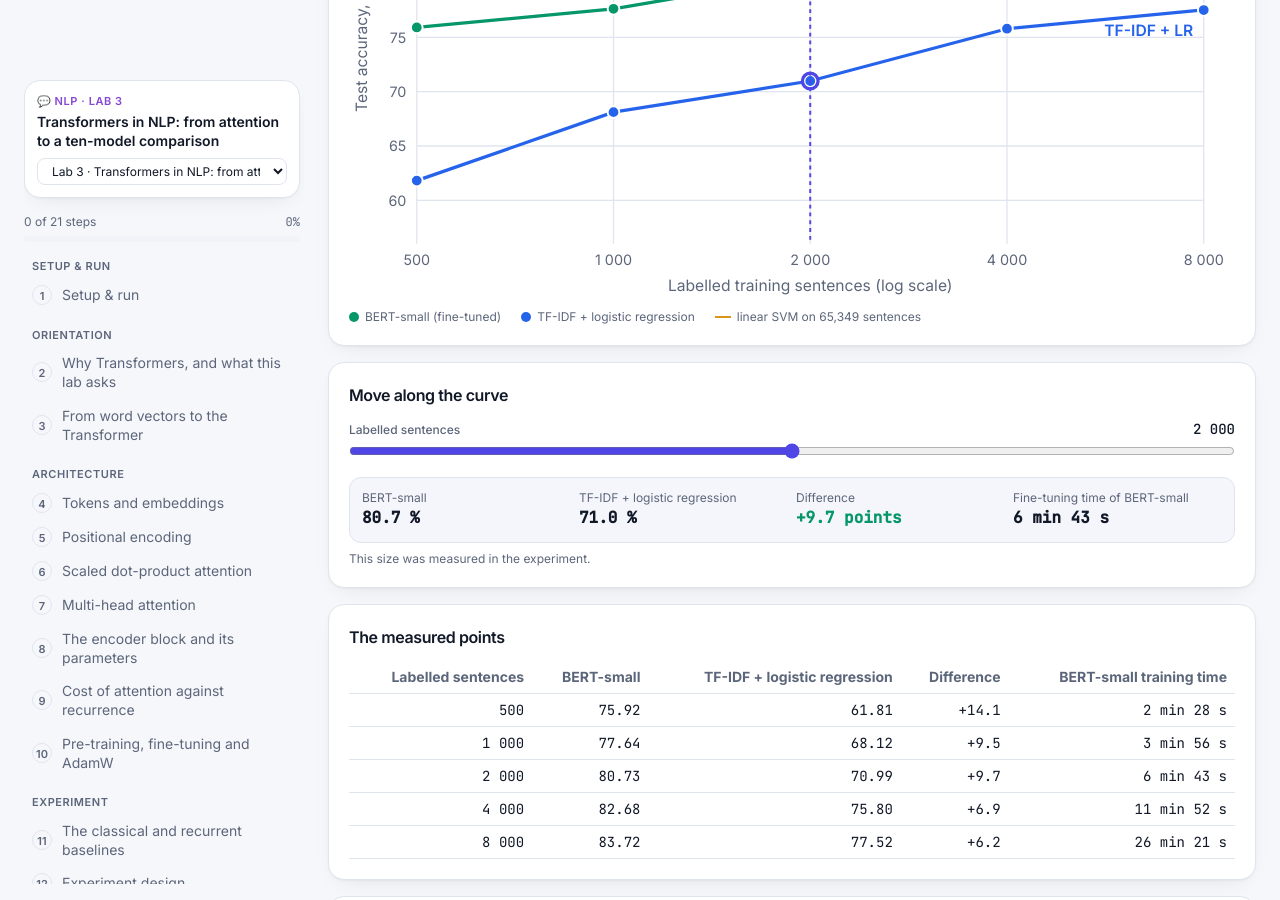
Test case: the steps respond to input › efficiency: the slider moves along the learning curve and says when a value is interpolated
(page scrolled)
Check: the text with test id "ef-basis" shows "measured in the experiment", box [349,550,590,566]
Check: the text with test id "ef-bert" reads "80.7 %", box [362,506,420,528]
Set the slider with id "ef-n" to "0". click: (357, 450)
box: [349,442,1235,458]
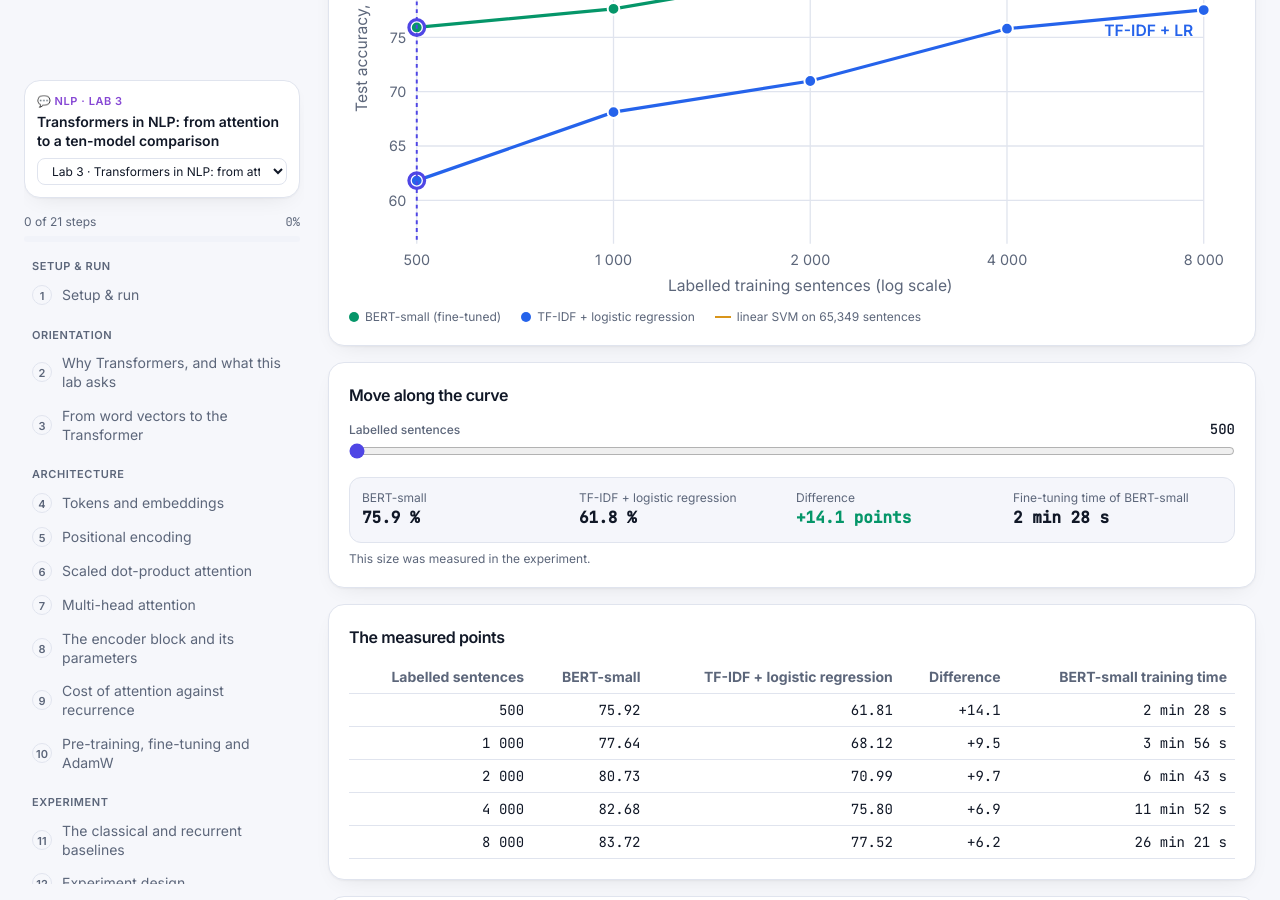
Check: the text with test id "ef-bert" reads "75.9 %", box [362,506,420,528]
Check: the text with test id "ef-lr" reads "61.8 %", box [579,506,637,528]
Check: the text with test id "ef-diff" shows "+14.1", box [796,506,911,528]
Set the slider with id "ef-n" to "30". click: (618, 450)
box: [349,442,1235,458]
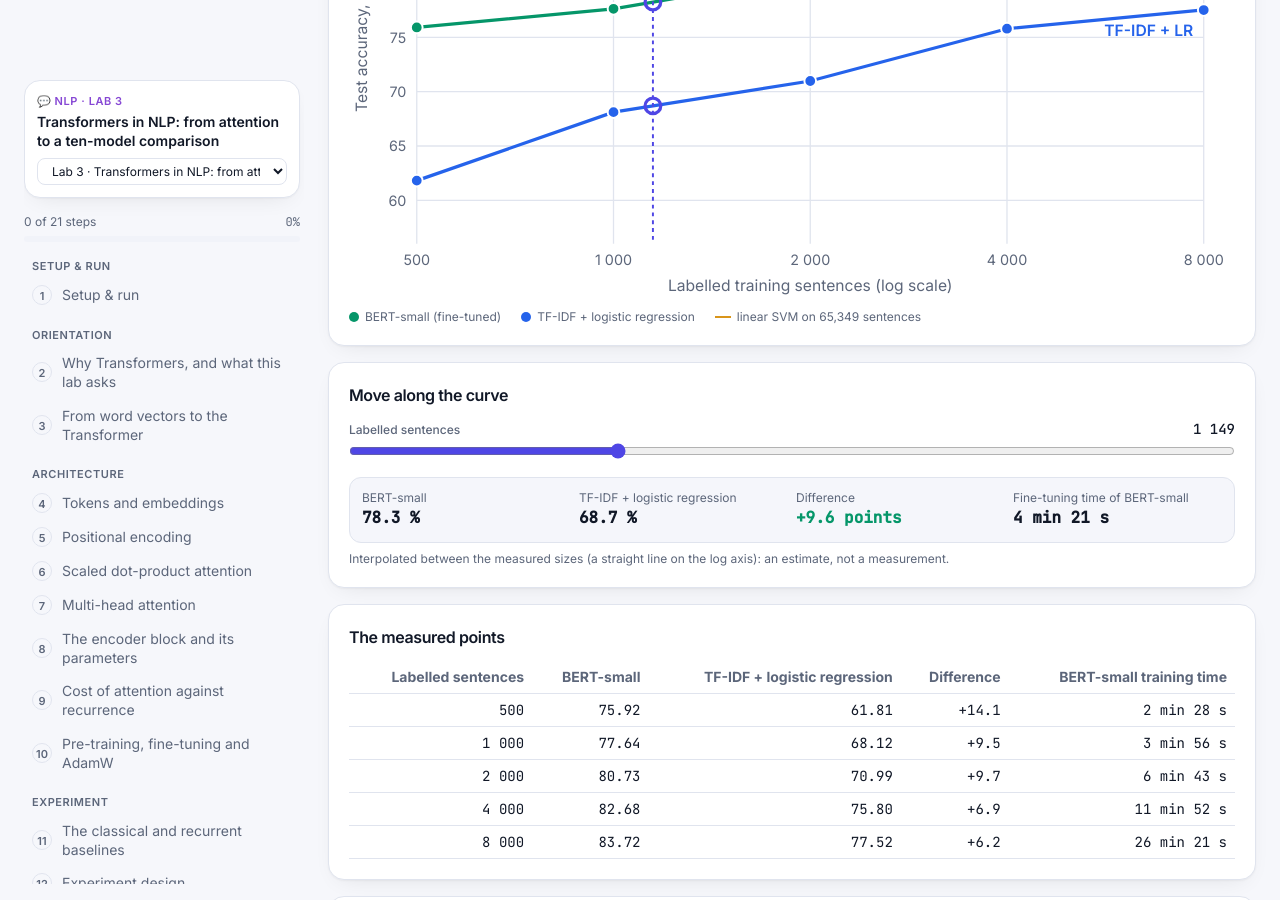
Check: the text with test id "ef-basis" shows "Interpolated", box [349,550,949,566]
